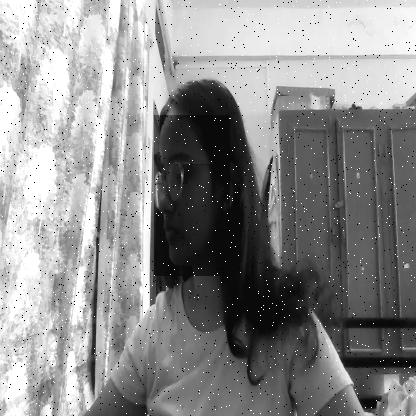Distracted: (154, 115, 230, 276)
